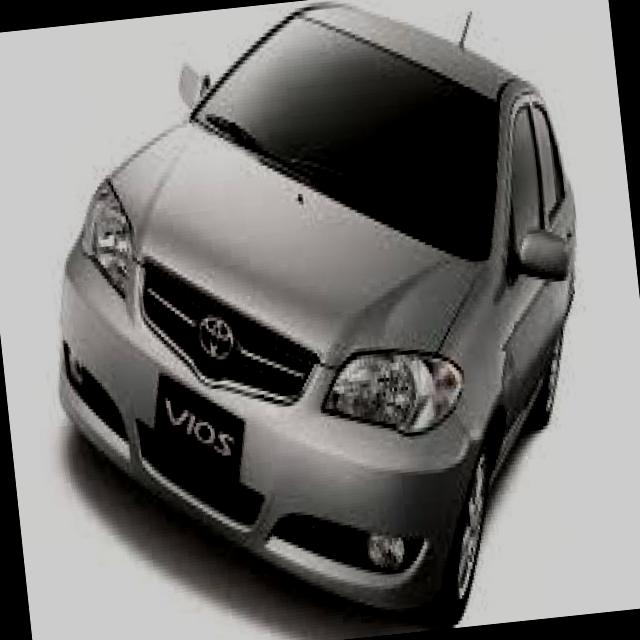ToyotaVios: (18, 0, 617, 640)
